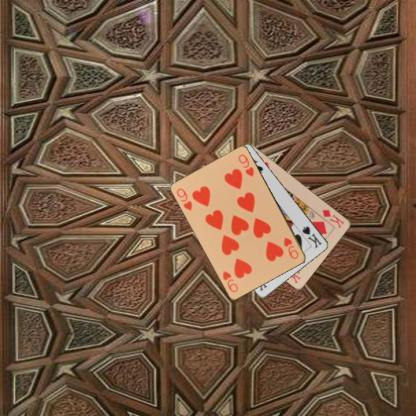9h: (173, 186, 194, 212), (281, 235, 300, 260)
Kd: (320, 207, 346, 230)
Ks: (300, 224, 324, 250)
